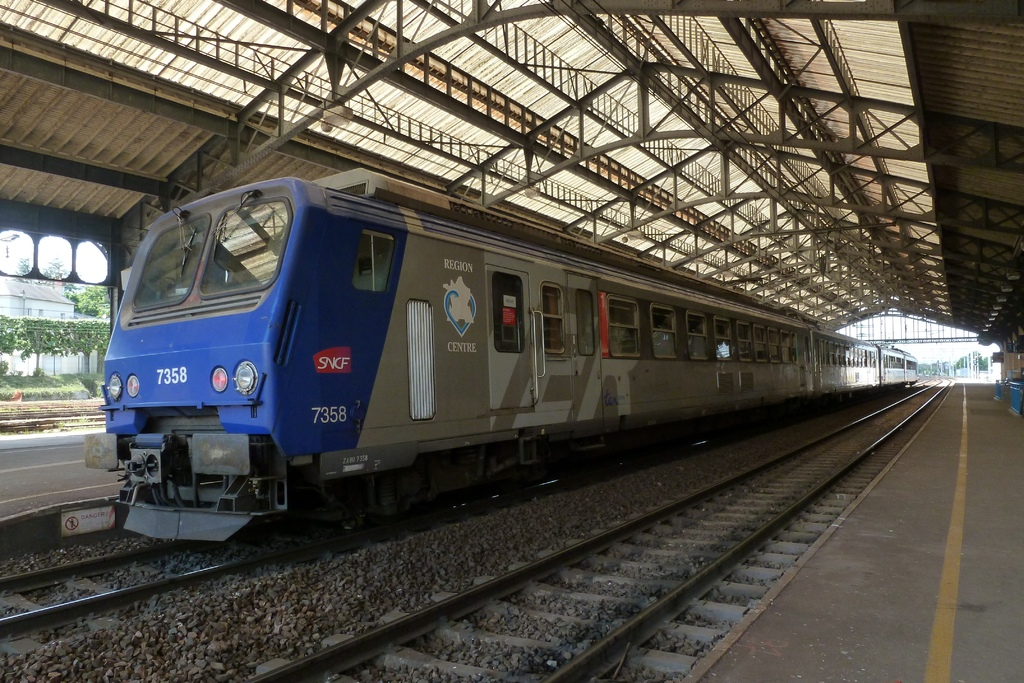train: (72, 165, 933, 551)
